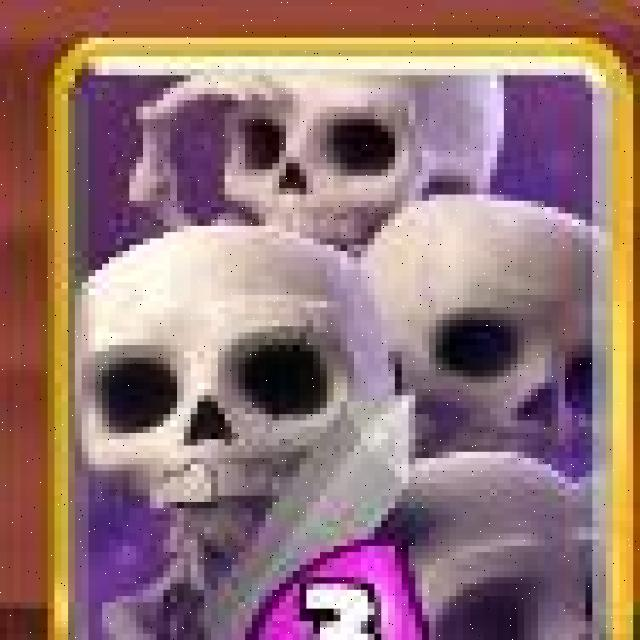Skeleton_Army: (47, 38, 633, 640)
